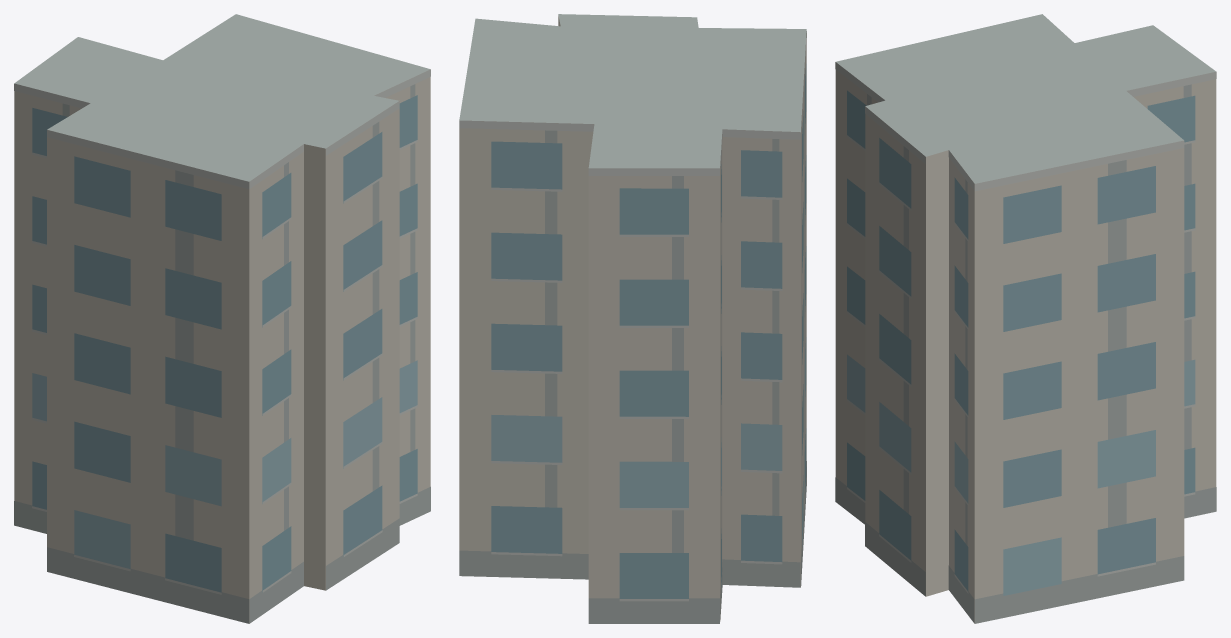
Rendered from survey-upis-32649978.glb.
3 renders of one model, left to right at view 1: azimuth 30°, elevation 25°; view 2: azimuth 150°, elevation 25°; view 3: azimuth 270°, elevation 25°, orthographic. The views are drawn at different scales.
Visible parts, largest first — view 1: survey-upis-32649978.tmp; view 2: survey-upis-32649978.tmp; view 3: survey-upis-32649978.tmp.
Boxes of the visible parts, bbox=[...] form: survey-upis-32649978.tmp: bbox=[14, 14, 430, 623]; survey-upis-32649978.tmp: bbox=[459, 14, 806, 623]; survey-upis-32649978.tmp: bbox=[835, 14, 1216, 623].
Bounding box in the file's own units: 11.94 × 14.4 × 11.31.
